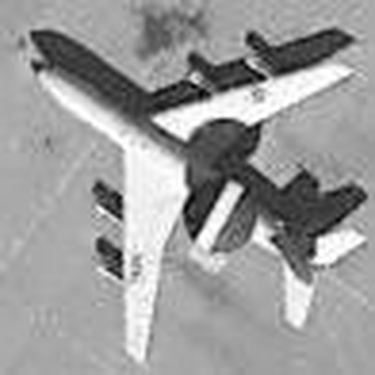airplane: (24, 35, 368, 367)
